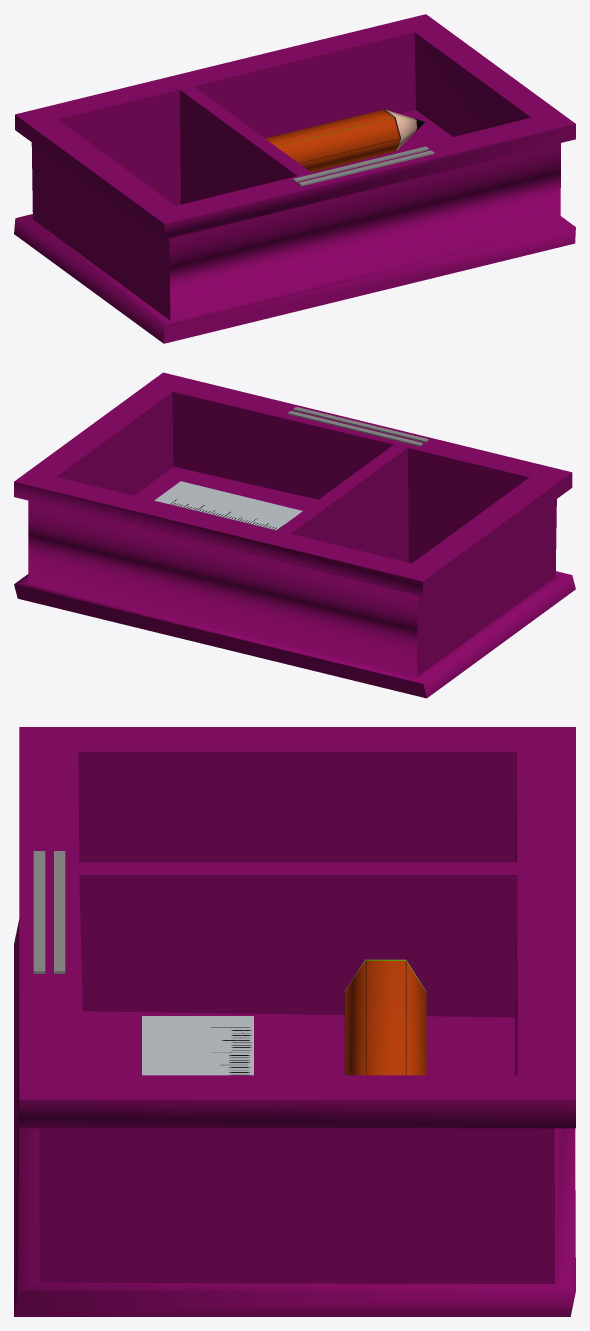
Rendered from OtherPencilCase3.FBX.
3 renders of one model, top to bottom at view 1: azimuth 30°, elevation 25°; view 2: azimuth 150°, elevation 25°; view 3: azimuth 270°, elevation 25°, orthographic. The views are drawn at different scales.
Visible parts, largest first — view 1: Case, Pencil1, Magnet1, Magnet2; view 2: Case, Ruler, Magnet1, Magnet2; view 3: Case, Pencil1, Ruler, Magnet1, Magnet2.
Boxes of the visible parts, left/top/right/bottom form: Case: left=14, top=14, right=575, bottom=343; Pencil1: left=265, top=109, right=424, bottom=172; Magnet1: left=298, top=150, right=434, bottom=186; Magnet2: left=293, top=146, right=428, bottom=182; Case: left=14, top=372, right=575, bottom=698; Ruler: left=154, top=481, right=302, bottom=530; Magnet1: left=293, top=407, right=428, bottom=442; Magnet2: left=287, top=411, right=422, bottom=446; Case: left=14, top=727, right=575, bottom=1316; Pencil1: left=344, top=959, right=426, bottom=1075; Ruler: left=142, top=1016, right=253, bottom=1075; Magnet1: left=33, top=851, right=45, bottom=973; Magnet2: left=54, top=851, right=65, bottom=973.
Bounding box in the file's own units: 155 × 43.14 × 98.56.
4 materials, 2 textured.
